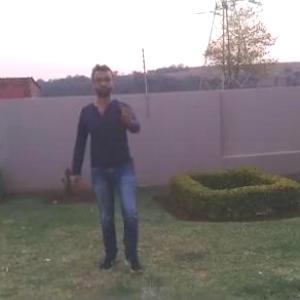takeoff-hand: (112, 94, 139, 128)
